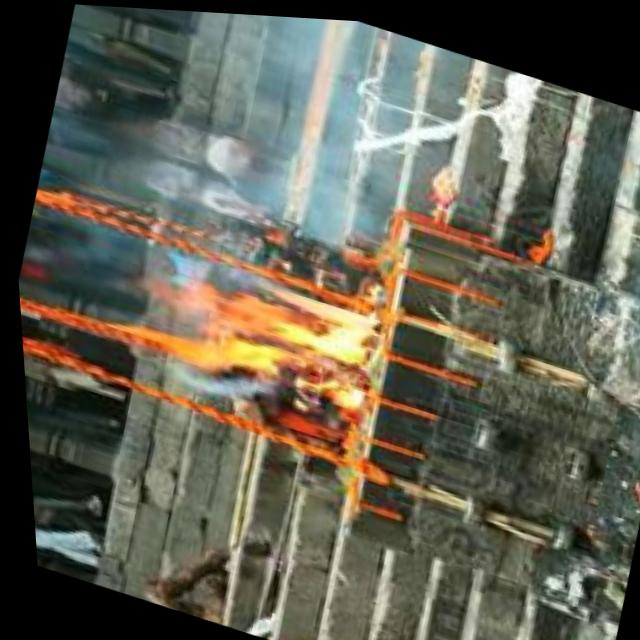Fire: (121, 233, 389, 420)
